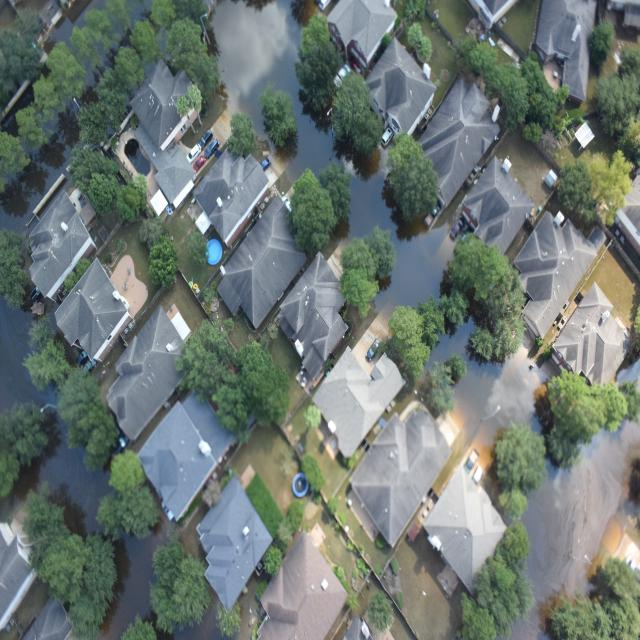fire: (512, 421, 640, 640), (213, 0, 337, 183), (343, 146, 466, 311), (0, 413, 111, 539), (100, 509, 169, 639), (0, 109, 79, 216), (435, 362, 499, 494), (0, 299, 54, 411), (486, 345, 547, 426)
